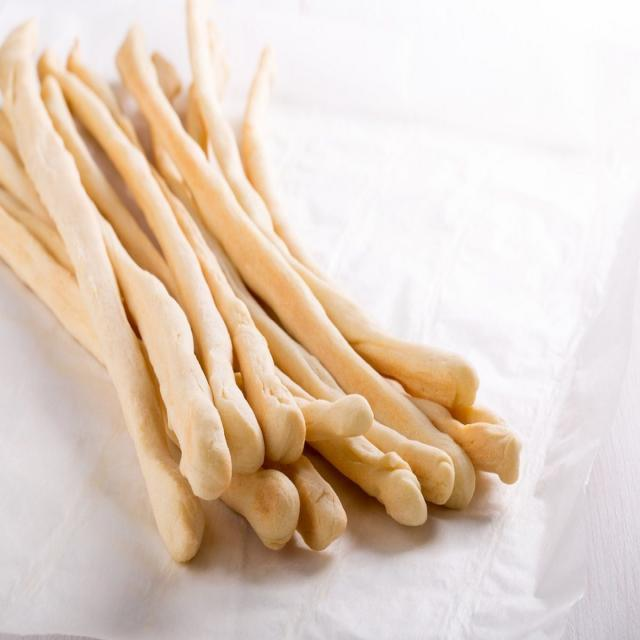Grissini: (10, 22, 523, 560)
